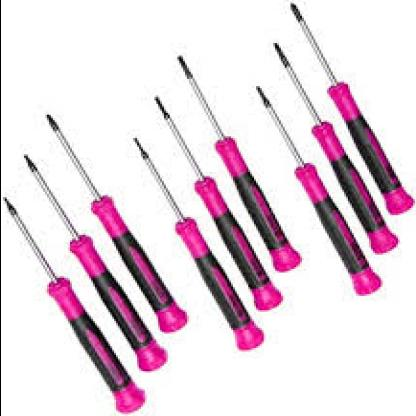Screw Driver: (1, 195, 148, 416), (21, 154, 168, 374), (46, 113, 190, 334), (150, 93, 283, 312), (130, 136, 264, 352), (175, 56, 304, 275), (253, 85, 382, 299), (272, 41, 400, 255), (289, 2, 416, 214)
